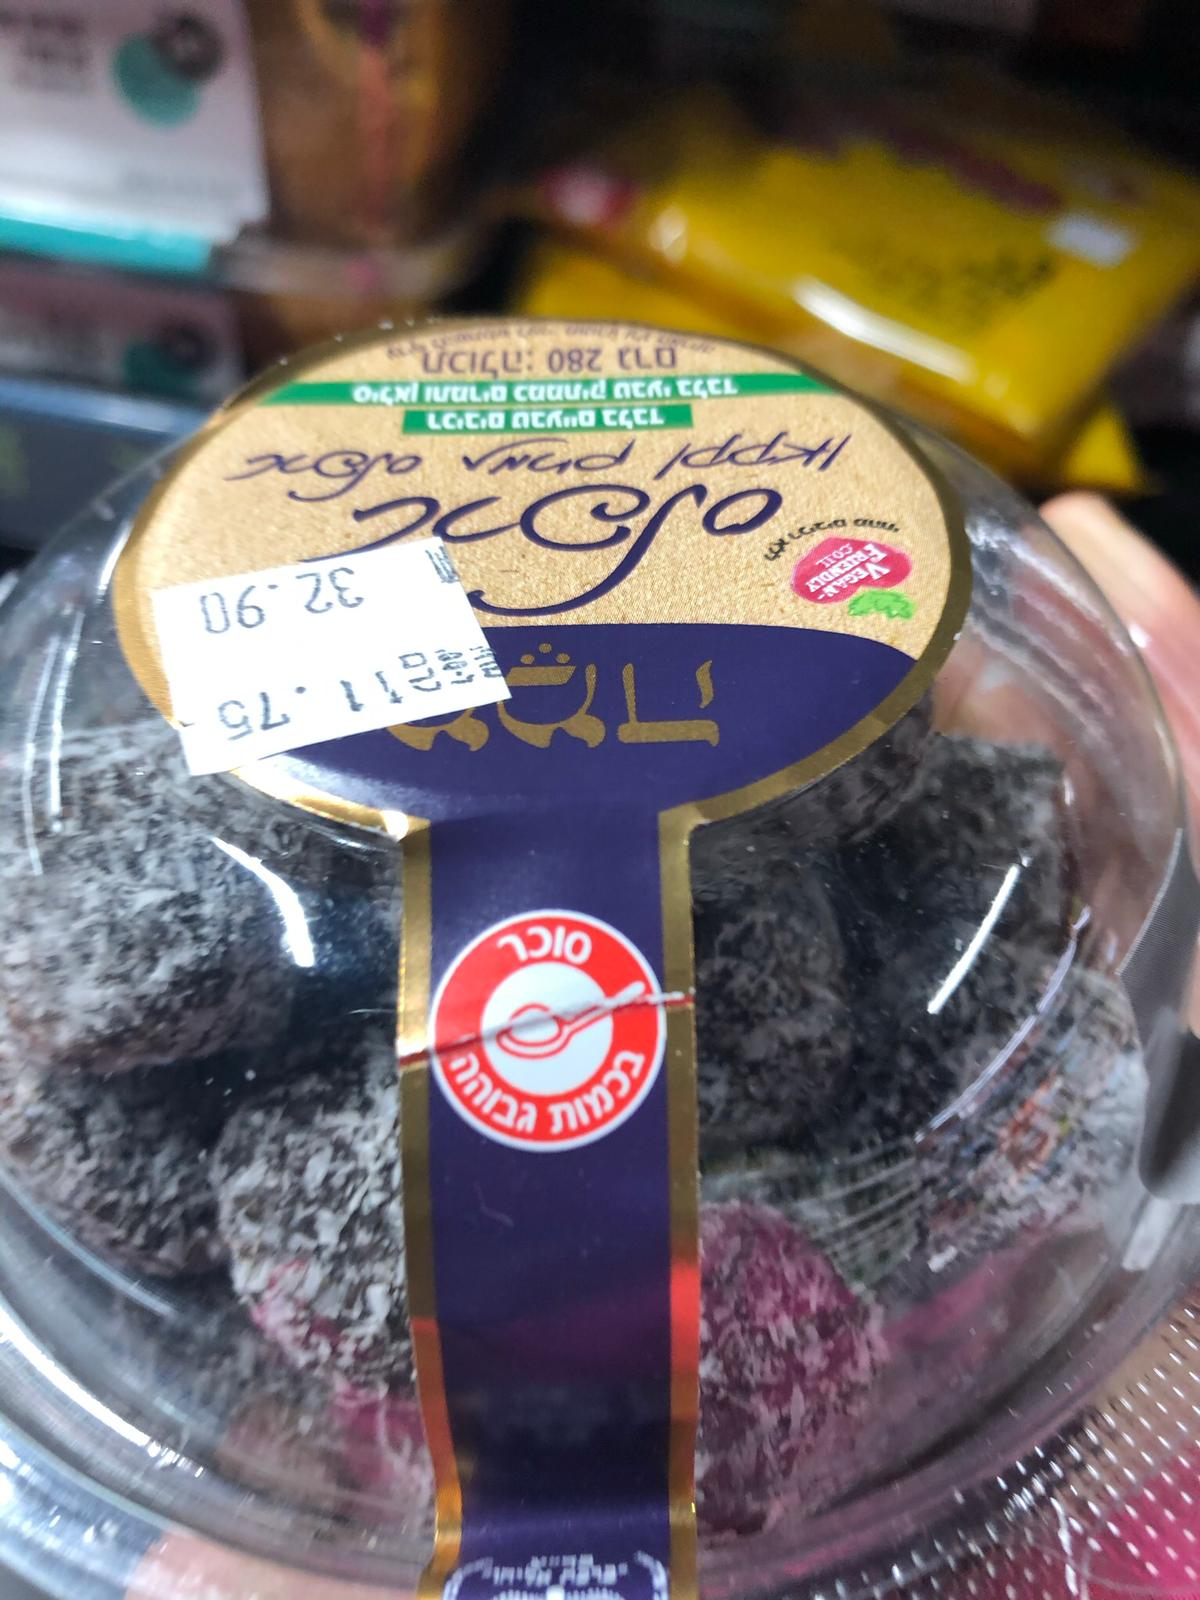sugar: (422, 908, 669, 1151)
